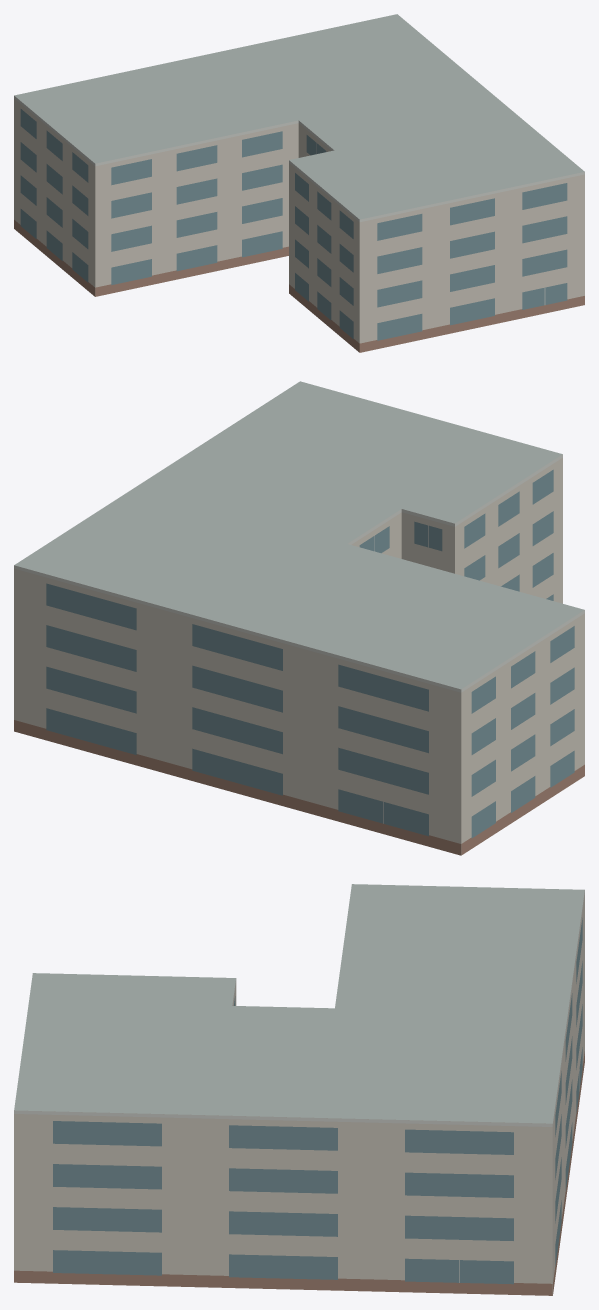
Rendered from residential-af02efc1-de62-44be-92d0-faecfea6a23a.glb.
3 views of the same model, one above another, from view 1: azimuth 30°, elevation 25°; view 2: azimuth 150°, elevation 25°; view 3: azimuth 270°, elevation 25° (orthographic). The views are drawn at different scales.
Parts seen in each view (by area): view 1: residential-af02efc1-de62-44be-92d0-faecfea6a23a.tmp; view 2: residential-af02efc1-de62-44be-92d0-faecfea6a23a.tmp; view 3: residential-af02efc1-de62-44be-92d0-faecfea6a23a.tmp.
Part boxes in pixels (left/top/right/bottom): residential-af02efc1-de62-44be-92d0-faecfea6a23a.tmp: left=14, top=14, right=584, bottom=352; residential-af02efc1-de62-44be-92d0-faecfea6a23a.tmp: left=14, top=381, right=584, bottom=855; residential-af02efc1-de62-44be-92d0-faecfea6a23a.tmp: left=14, top=884, right=584, bottom=1295.
Size of the model in its own units: 36.4 by 12.2 by 36.66.
